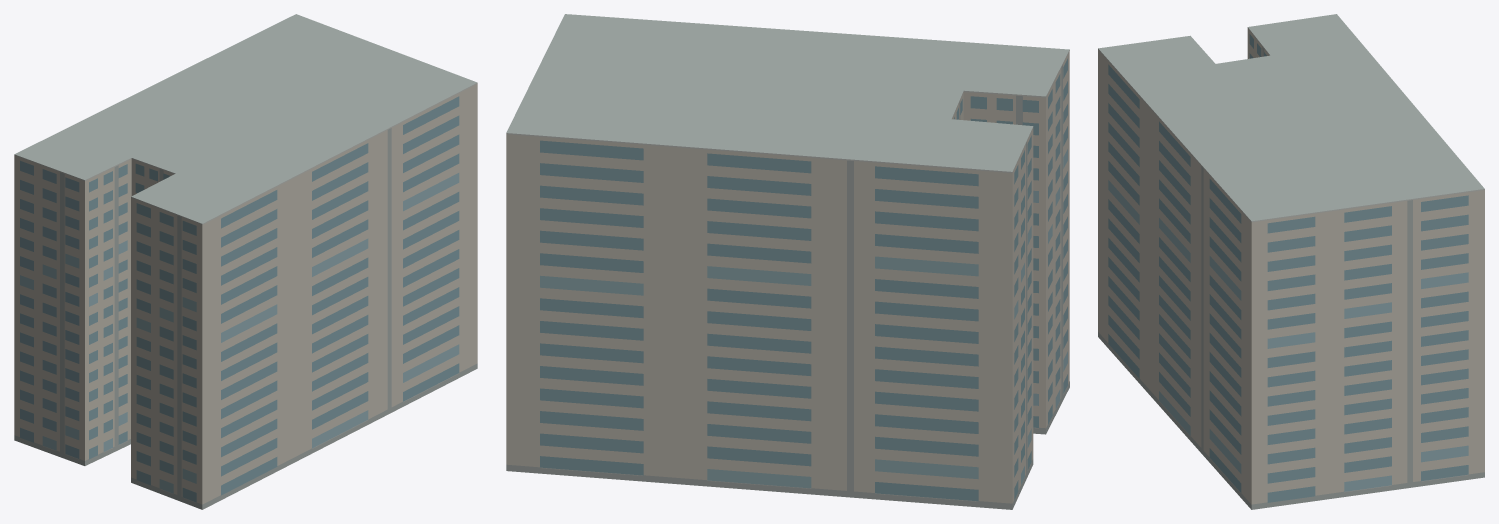
Rendered from survey-upis-32762246.glb.
3 renders of one model, left to right at view 1: azimuth 30°, elevation 25°; view 2: azimuth 150°, elevation 25°; view 3: azimuth 270°, elevation 25°, orthographic. The views are drawn at different scales.
Parts seen in each view (by area): view 1: survey-upis-32762246.tmp; view 2: survey-upis-32762246.tmp; view 3: survey-upis-32762246.tmp.
Part boxes in pixels (x1,y1,x2,y2): survey-upis-32762246.tmp: (14, 14, 477, 509); survey-upis-32762246.tmp: (506, 14, 1069, 509); survey-upis-32762246.tmp: (1098, 14, 1484, 509).
Bounding box in the file's own units: 96.89 × 62.9 × 76.38.
